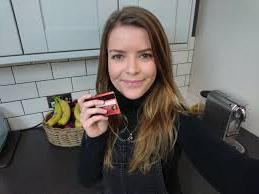face: (108, 24, 157, 100)
